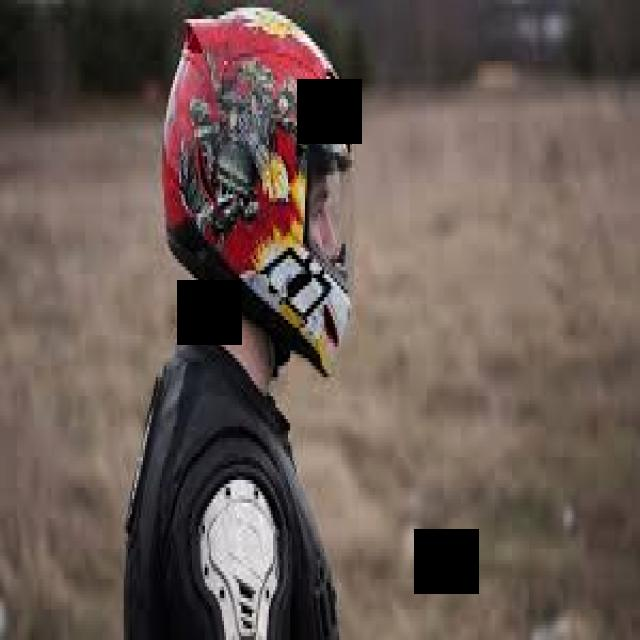Helmet: (125, 11, 351, 637)
